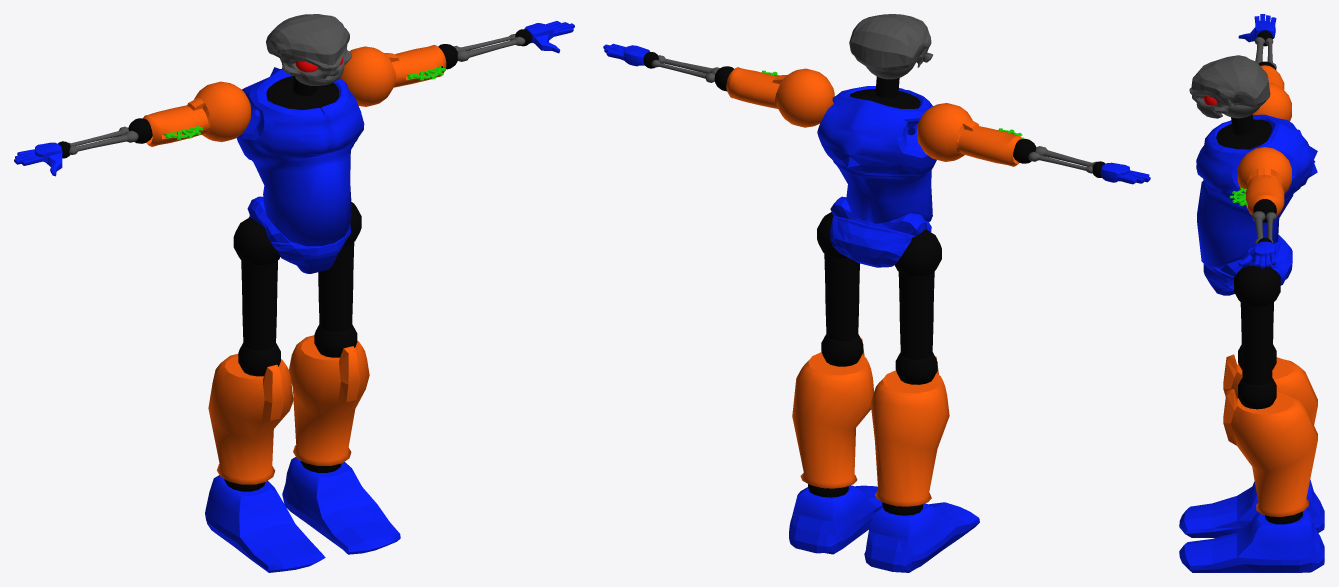
File: Androide texturizado videojuego.fbx
The picture shows the model from 3 angles, left to right: view 1: azimuth 30°, elevation 25°; view 2: azimuth 150°, elevation 25°; view 3: azimuth 270°, elevation 25°; orthographic projection. The views are drawn at different scales.
Parts seen in each view (by area): view 1: Clon; view 2: Clon; view 3: Clon.
Part boxes in pixels (left/top/right/bottom): Clon: left=14, top=14, right=574, bottom=572; Clon: left=603, top=14, right=1150, bottom=572; Clon: left=1179, top=14, right=1324, bottom=572.
Bounding box in the file's own units: 1444 × 1292 × 353.
